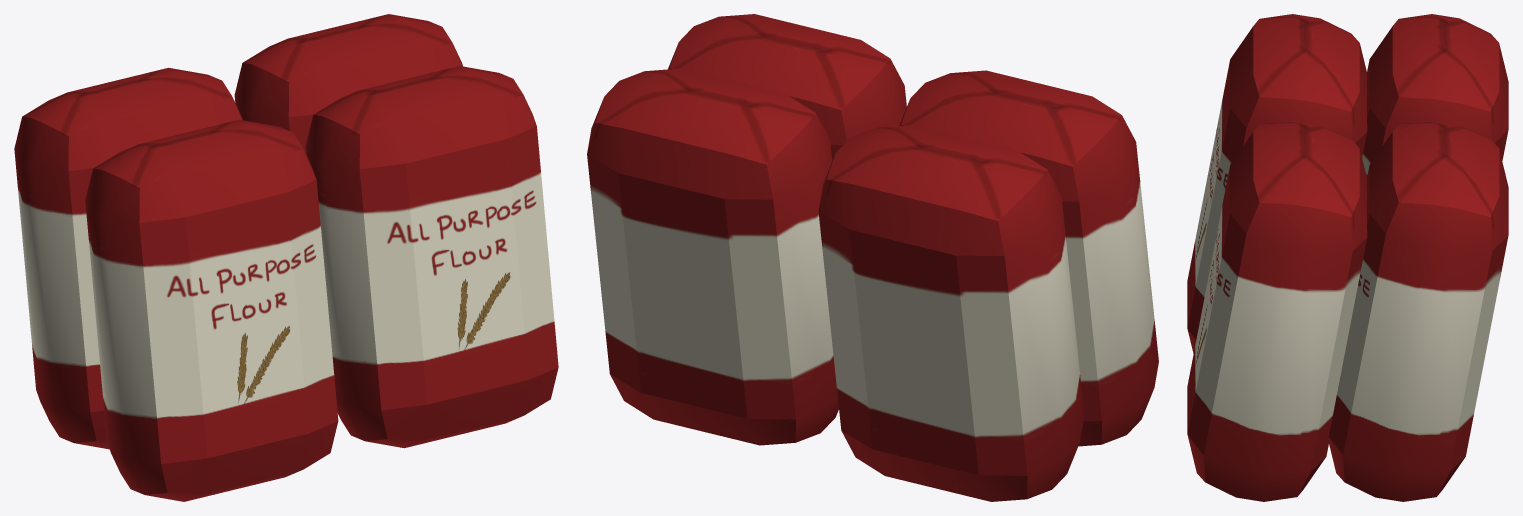
File: flour.fbx
3 views of the same model, side by side, from view 1: azimuth 30°, elevation 25°; view 2: azimuth 150°, elevation 25°; view 3: azimuth 270°, elevation 25° (orthographic). The views are drawn at different scales.
Visible parts, largest first — view 1: flour1, flour3, flour, flour2; view 2: flour, flour2, flour1, flour3; view 3: flour3, flour2, flour1, flour.
Part boxes in pixels (x1=…): flour1: x1=85, y1=119, x2=338, y2=501; flour3: x1=305, y1=66, x2=558, y2=448; flour: x1=14, y1=67, x2=242, y2=449; flour2: x1=234, y1=14, x2=462, y2=154; flour: x1=818, y1=125, x2=1084, y2=501; flour2: x1=587, y1=68, x2=838, y2=445; flour1: x1=899, y1=70, x2=1158, y2=446; flour3: x1=668, y1=14, x2=906, y2=160; flour3: x1=1187, y1=119, x2=1367, y2=501; flour2: x1=1328, y1=119, x2=1508, y2=501; flour1: x1=1187, y1=14, x2=1367, y2=353; flour: x1=1362, y1=14, x2=1508, y2=176.
Size of the model in its own units: 31.67 by 23.5 by 20.89.
Materials: 1 (1 with a texture image).
